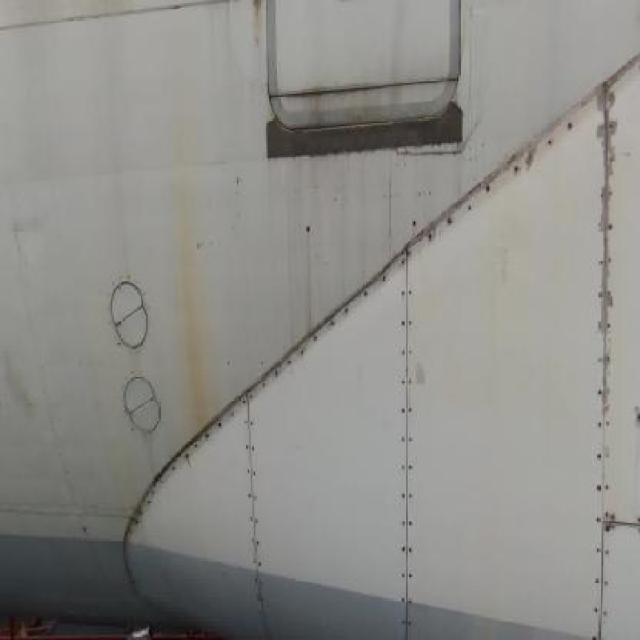Missing-Rivet: (425, 115, 580, 247), (581, 68, 614, 637), (390, 220, 427, 620), (271, 265, 387, 387), (138, 410, 236, 498), (238, 378, 270, 608)
Rust: (173, 139, 224, 450), (238, 0, 273, 55)
Scartch: (1, 192, 59, 460)
